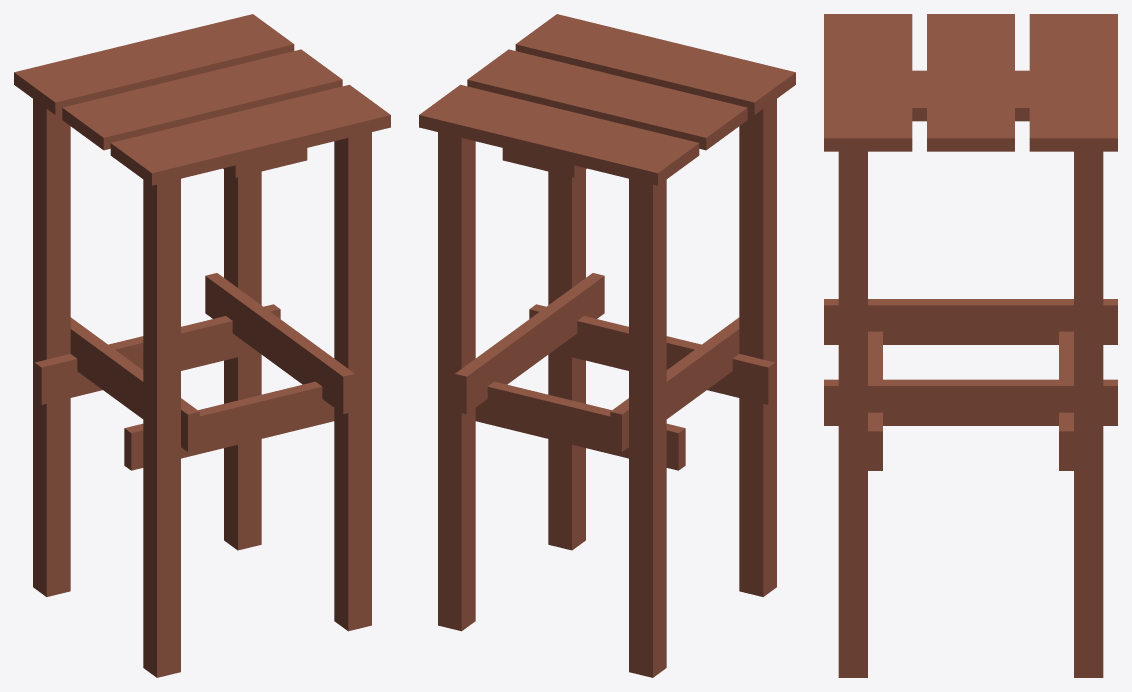
Rendered from scaffold_small_high 1.fbx.
3 renders of one model, left to right at view 1: azimuth 30°, elevation 25°; view 2: azimuth 150°, elevation 25°; view 3: azimuth 270°, elevation 25°, orthographic. The views are drawn at different scales.
Parts seen in each view (by area): view 1: scaffold_small_high; view 2: scaffold_small_high; view 3: scaffold_small_high.
Part boxes in pixels (box(x1,y1,x2,y2)): scaffold_small_high: box(14, 14, 390, 677); scaffold_small_high: box(419, 14, 795, 677); scaffold_small_high: box(824, 14, 1117, 677).
Bounding box in the file's own units: 200 × 410 × 200.
